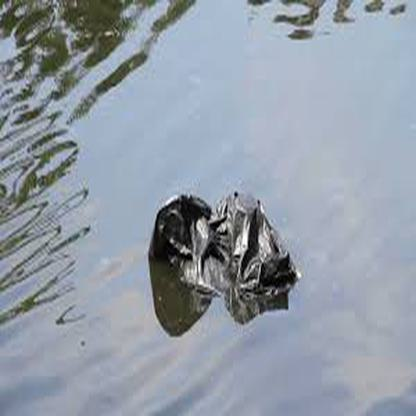plastic bag: (145, 189, 301, 302)
